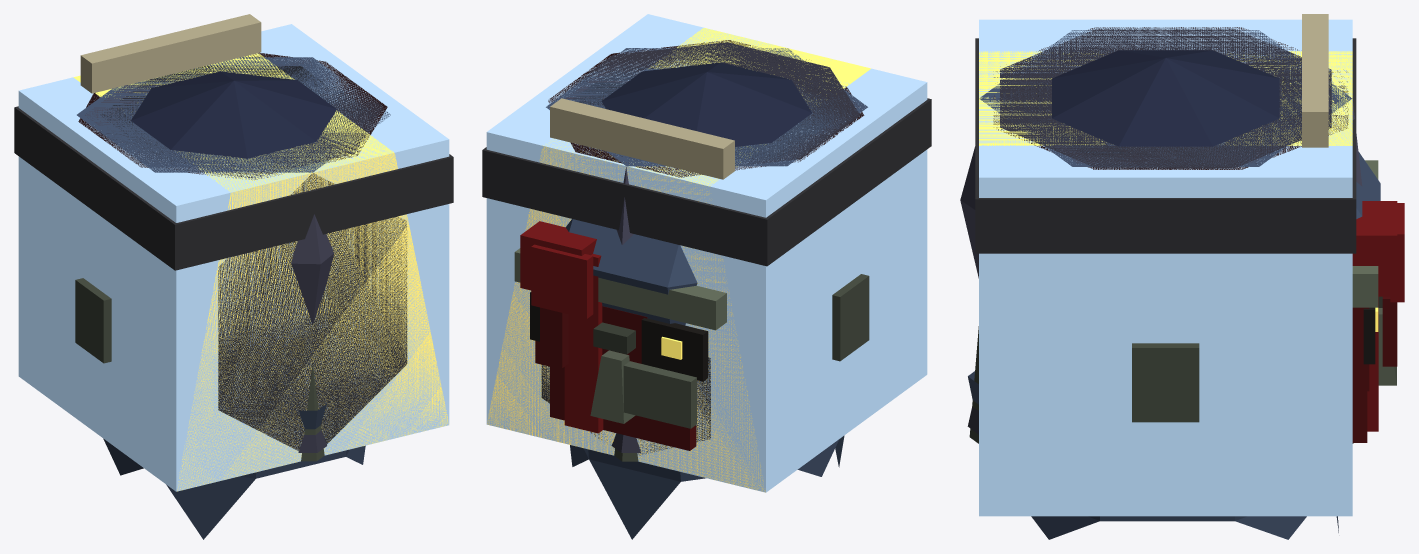
Rendered from cop.glb.
The picture shows the model from 3 angles, left to right: view 1: azimuth 30°, elevation 25°; view 2: azimuth 150°, elevation 25°; view 3: azimuth 270°, elevation 25°; orthographic projection. The views are drawn at different scales.
Parts seen in each view (by area): view 1: headVisor, torsoBadge, footR, hips, headHelmet, uArmR, headJaw, shinR, torso, head, handR, neck; view 2: headVisor, hips, torso, torsoBadge, headJaw, head, headHelmet, uArmR, fArmR, torsoBelly, thighR, footR (+1 smaller); view 3: headVisor, hips, headHelmet, head, uArmR, torsoBadge, headJaw, torso, torsoBelly, shinR, fArmR, thighR.
Boxes of the visible parts, x1,y1,x2,y2 form: headVisor: (18, 24, 449, 491); torsoBadge: (73, 53, 449, 491); footR: (218, 173, 407, 451); hips: (14, 56, 453, 270); headHelmet: (131, 71, 336, 158); uArmR: (77, 57, 390, 429); headJaw: (78, 14, 387, 179); shinR: (85, 60, 361, 452); torso: (103, 438, 365, 539); head: (75, 278, 111, 363); handR: (100, 66, 349, 159); neck: (301, 363, 324, 461); headVisor: (486, 14, 927, 492); hips: (482, 42, 931, 266); torso: (531, 219, 844, 539); torsoBadge: (487, 28, 870, 492); headJaw: (548, 40, 864, 433); head: (514, 248, 869, 423); headHelmet: (601, 62, 812, 146); uArmR: (546, 48, 867, 166); fArmR: (550, 54, 842, 450); torsoBelly: (520, 221, 635, 354); thighR: (535, 167, 647, 369); footR: (541, 357, 710, 455); headVisor: (979, 19, 1352, 516); hips: (975, 28, 1356, 253); headHelmet: (1052, 50, 1279, 146); head: (1132, 160, 1396, 422); uArmR: (968, 30, 1352, 404); torsoBadge: (979, 51, 1352, 145); headJaw: (993, 14, 1378, 431); torso: (1031, 151, 1404, 539); torsoBelly: (1352, 201, 1397, 307); shinR: (960, 50, 1341, 434); fArmR: (998, 47, 1367, 442); thighR: (1352, 100, 1369, 391).
Size of the model in its own units: 1.06 by 1.41 by 1.19.
